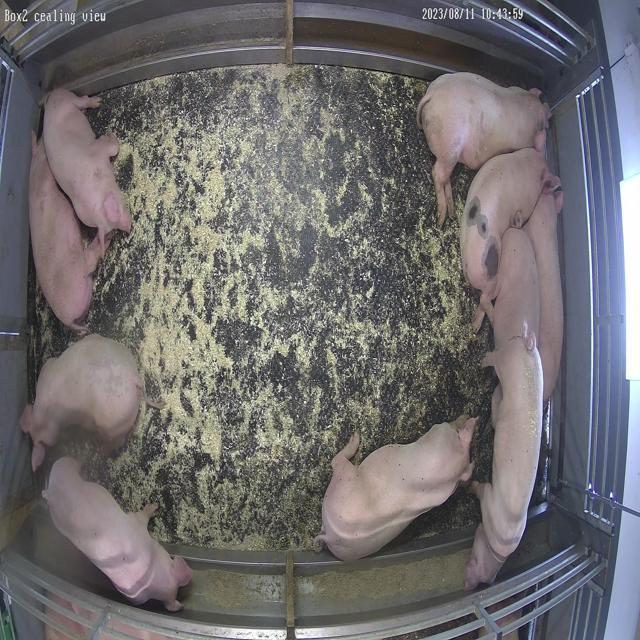Pig: (316, 417, 476, 562), (45, 458, 192, 612), (418, 72, 552, 222), (467, 333, 544, 590), (20, 335, 143, 470), (28, 139, 109, 332), (42, 88, 131, 236), (463, 148, 548, 292), (525, 173, 565, 400), (493, 228, 541, 350)
